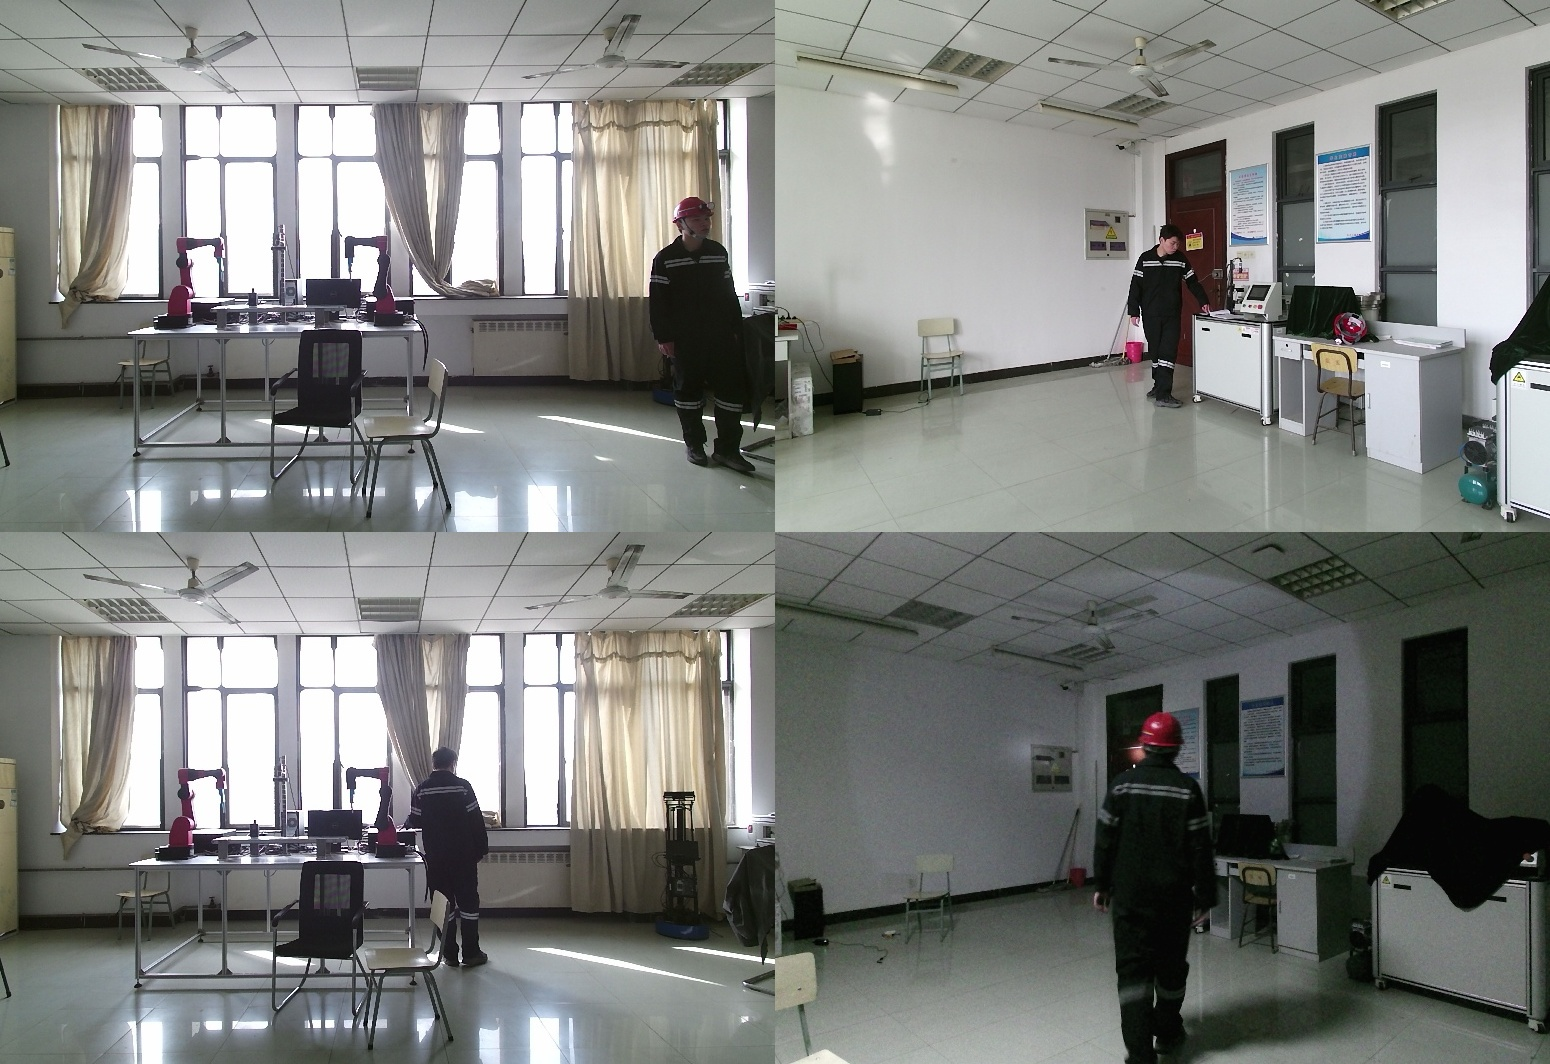person: (1088, 710, 1227, 1064), (651, 199, 757, 470), (403, 746, 495, 969), (1129, 226, 1215, 410)
